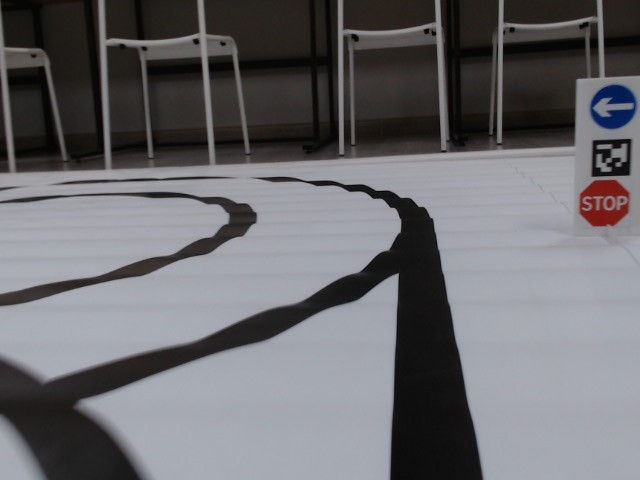Stop: (577, 180, 631, 228)
